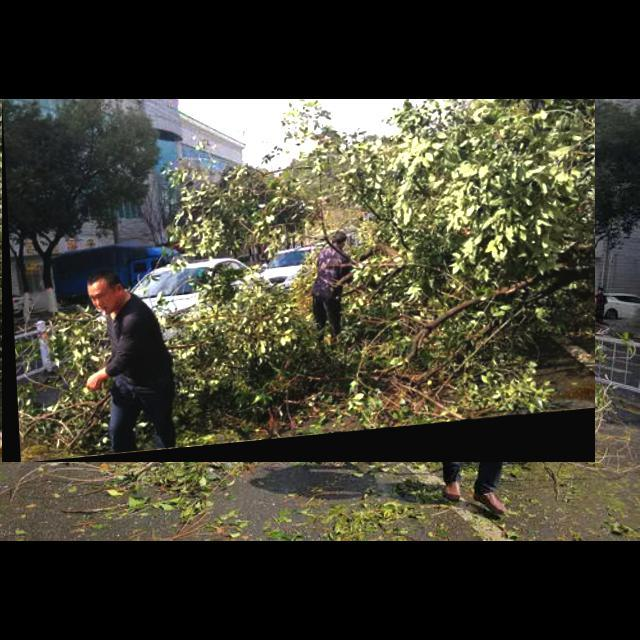fallen_tree: (2, 99, 596, 463)
